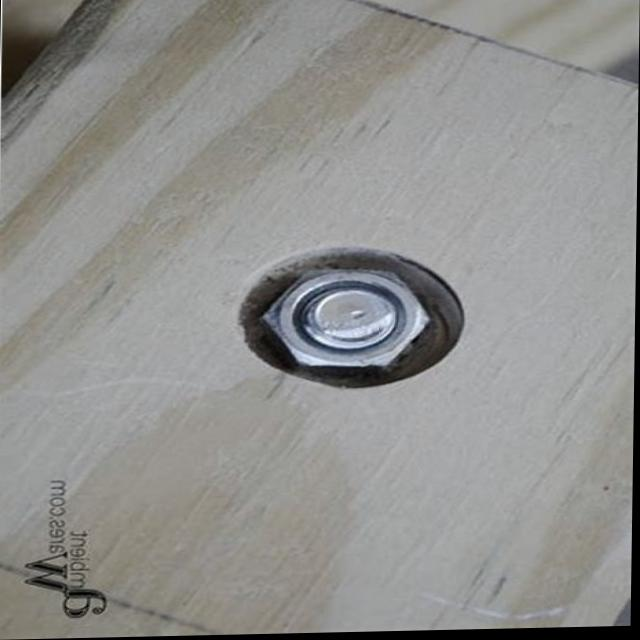Regular bolt: (265, 266, 434, 375)
